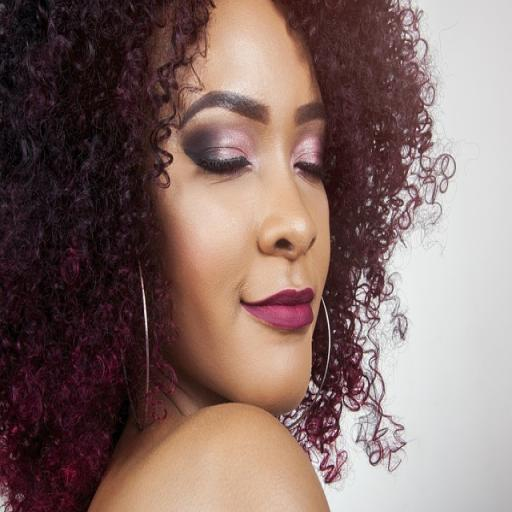lipstick: (241, 288, 314, 330)
